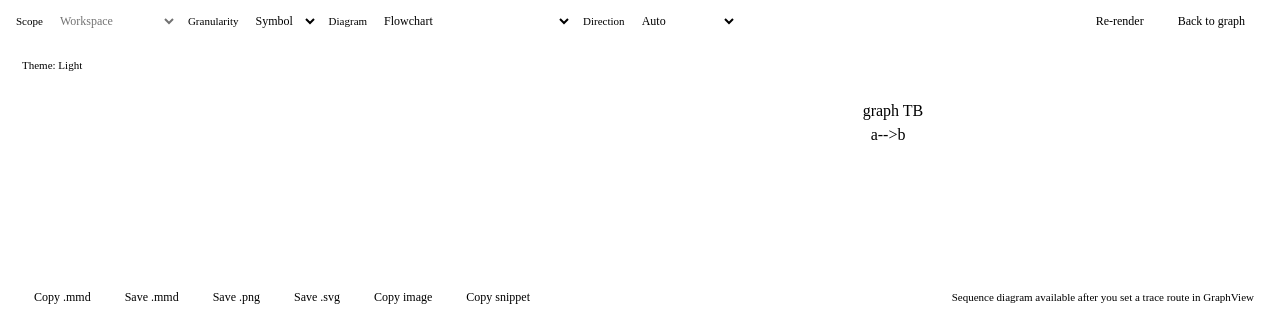
MermaidPreviewPanel export actions (slice 029 US3 / PR-C) › shows error status when PNG rasterization fails
Step 1. Click the button "Save .png" → (233, 297), box [197, 281, 270, 313]
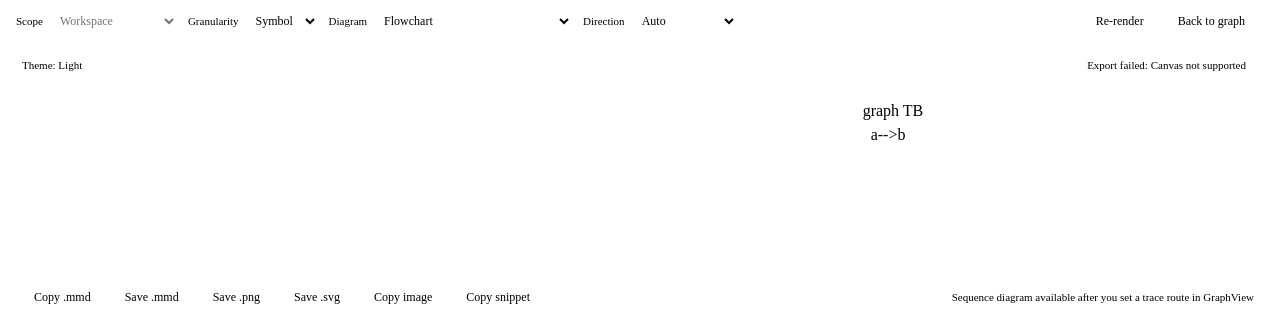
Expected: the message reads "Export failed: Canvas not supported", [1087, 59, 1246, 71]
